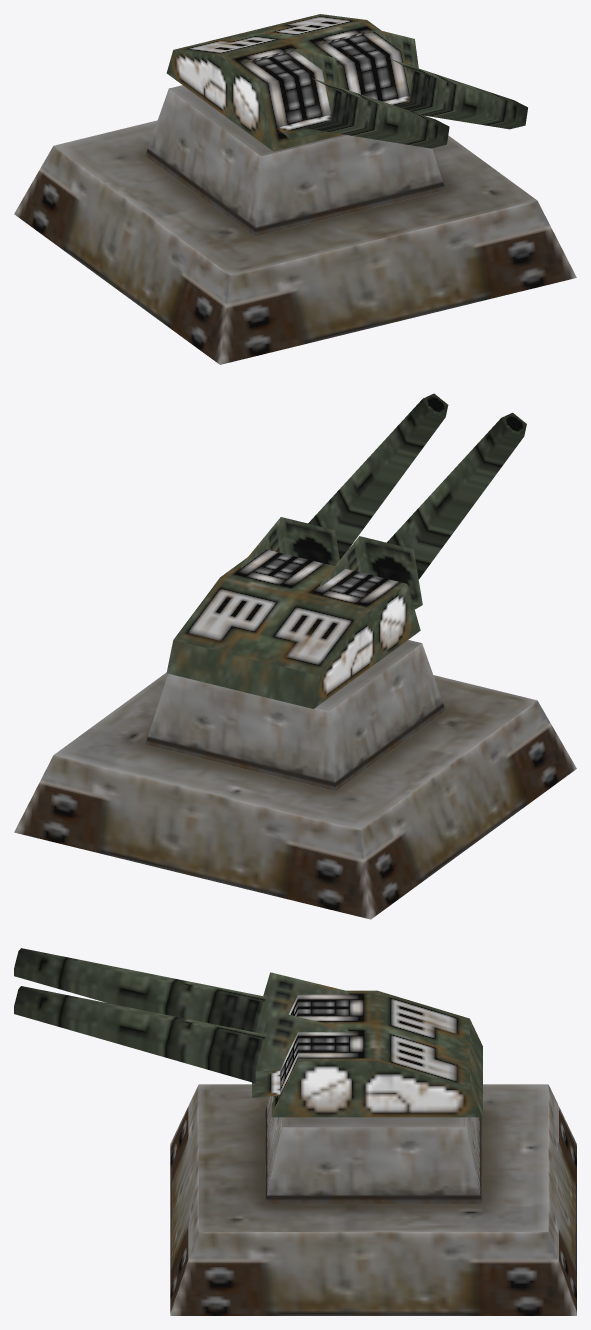
Rendered from orbitalturret.glb.
The picture shows the model from 3 angles, top to bottom: view 1: azimuth 30°, elevation 25°; view 2: azimuth 150°, elevation 25°; view 3: azimuth 270°, elevation 25°; orthographic projection.
Parts seen in each view (by area): view 1: Base, Mog_Turret, Mog_Guns; view 2: Base, Mog_Turret, Mog_Guns; view 3: Base, Mog_Guns, Mog_Turret.
Boxes of the visible parts, <box> form: Base: <box>14,85,576,364</box>; Mog_Turret: <box>166,14,409,151</box>; Mog_Guns: <box>242,29,527,148</box>; Base: <box>14,640,576,919</box>; Mog_Turret: <box>166,549,420,708</box>; Mog_Guns: <box>240,393,526,609</box>; Base: <box>170,1084,576,1315</box>; Mog_Guns: <box>14,948,349,1097</box>; Mog_Turret: <box>271,990,482,1117</box>.
Bounding box in the file's own units: 15.87 × 11.34 × 21.97.
1 material, 1 textured.
